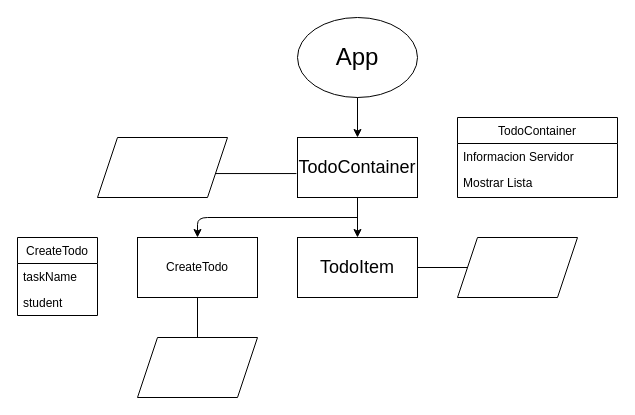
Some shapes in this 635 by 415 pixel diagram are drawn without their labels. The centre of each missing label's shape, as x and y in pixels:
react-hook-form: point 197,367
useEffect, useState: point 162,167
useState, props: point 517,267
